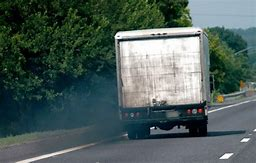smoke: (50, 78, 135, 143)
